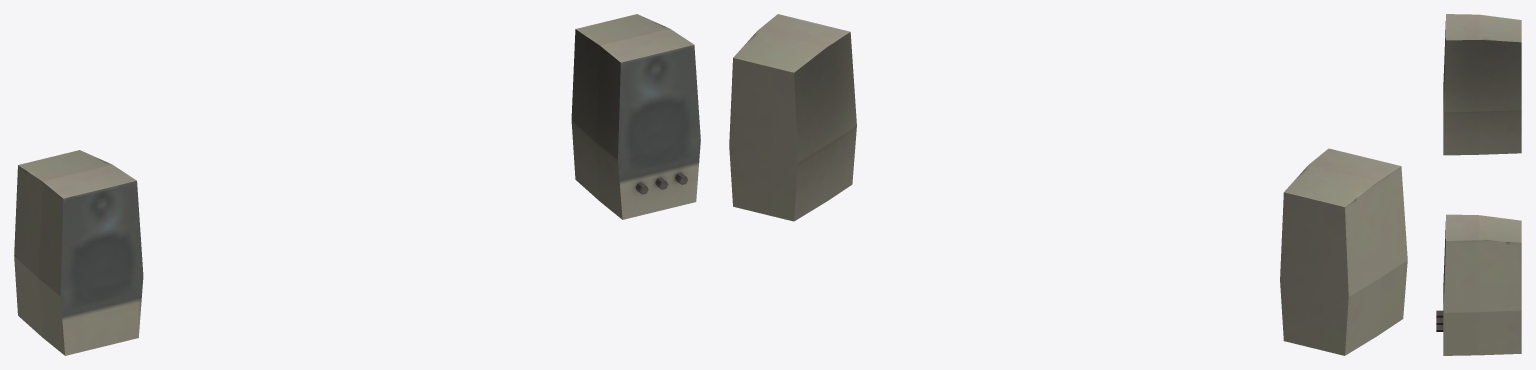
Rendered from Computer Speakers.fbx.
3 renders of one model, left to right at view 1: azimuth 30°, elevation 25°; view 2: azimuth 150°, elevation 25°; view 3: azimuth 270°, elevation 25°, orthographic. The views are drawn at different scales.
Visible parts, largest first — view 1: PC Speakers; view 2: PC Speakers; view 3: PC Speakers.
Boxes of the visible parts, box(x1,y1,x2,y2) form: PC Speakers: box(14, 14, 700, 355); PC Speakers: box(729, 14, 1407, 355); PC Speakers: box(1436, 14, 1521, 355).
Size of the model in its own units: 104 by 24.14 by 16.28.
